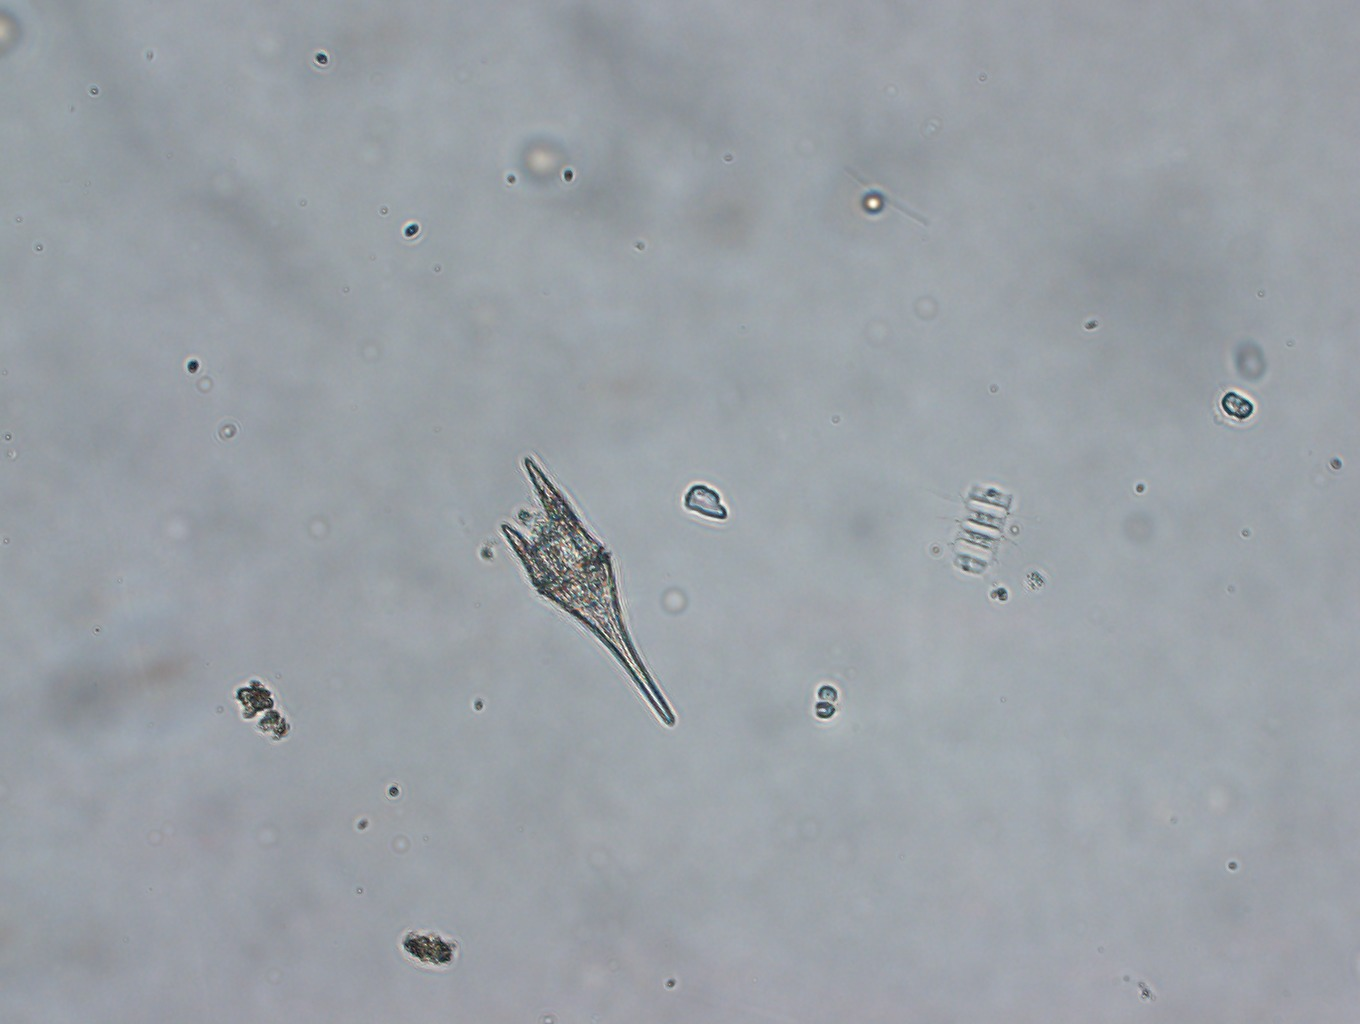ceratium furca: (501, 456, 679, 733)
chaetoceros: (924, 477, 1039, 596)
